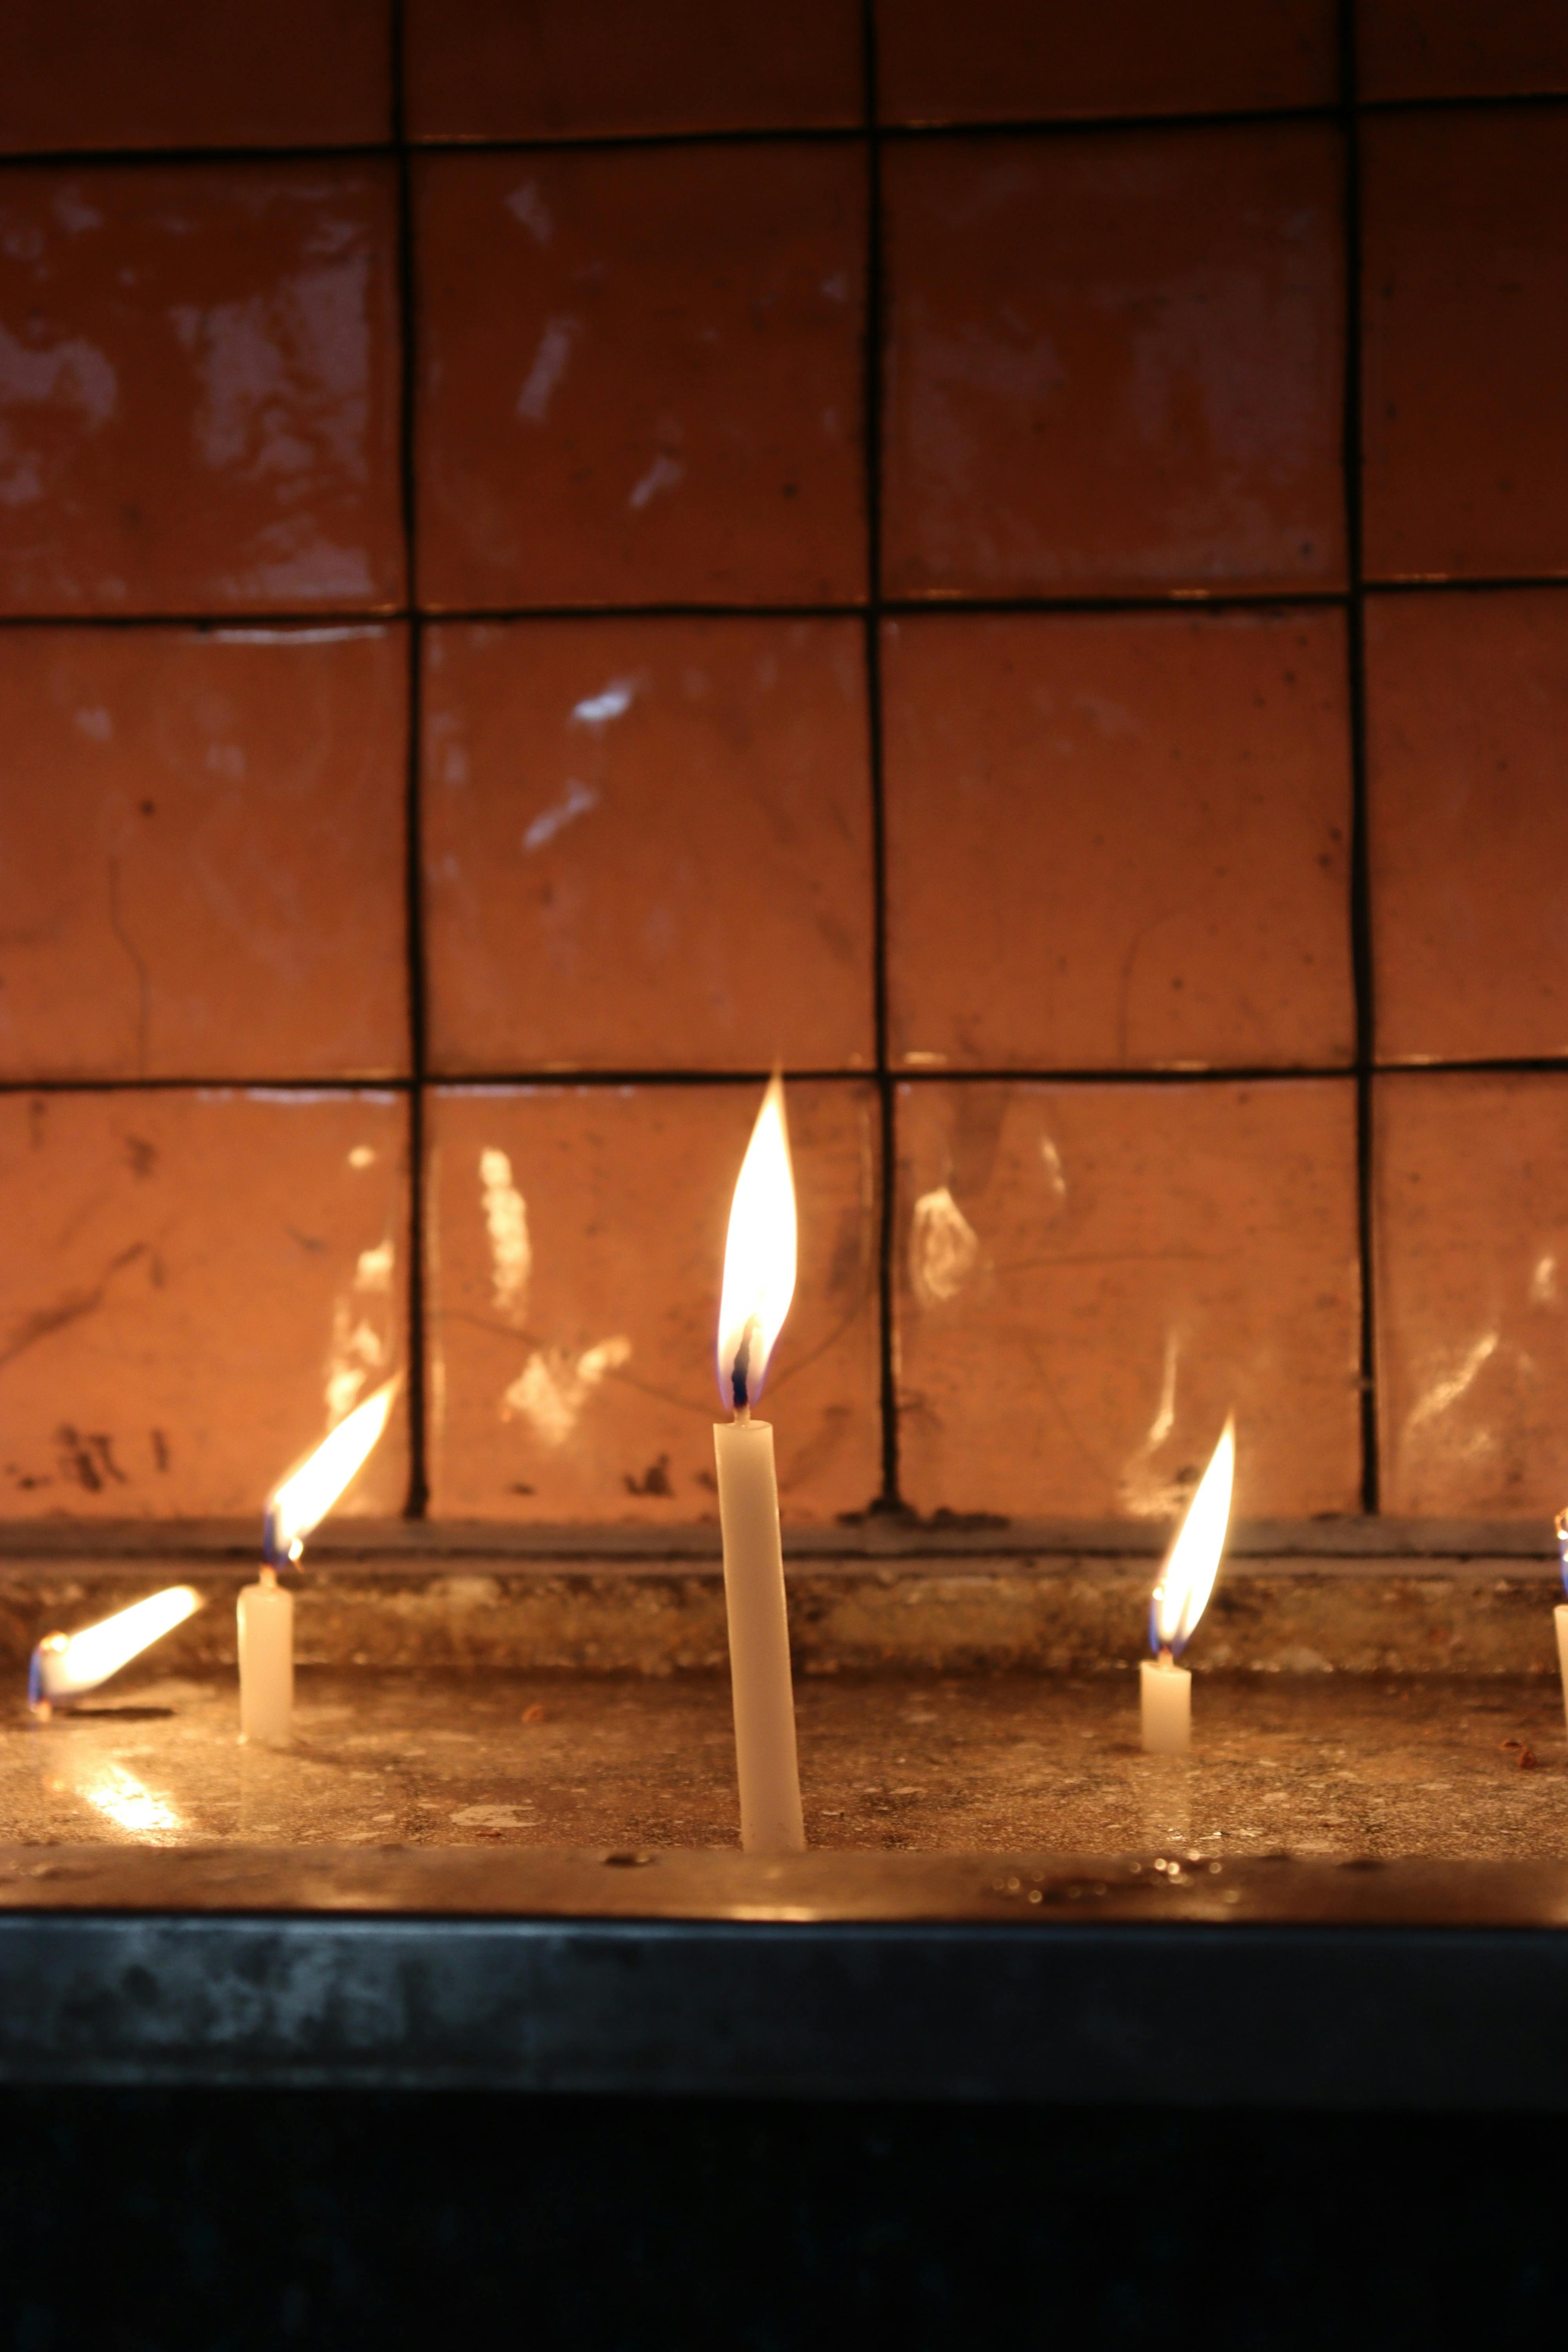Fire: (698, 1071, 829, 1405), (1122, 1404, 1277, 1650), (252, 1369, 416, 1578), (24, 1577, 219, 1717)
